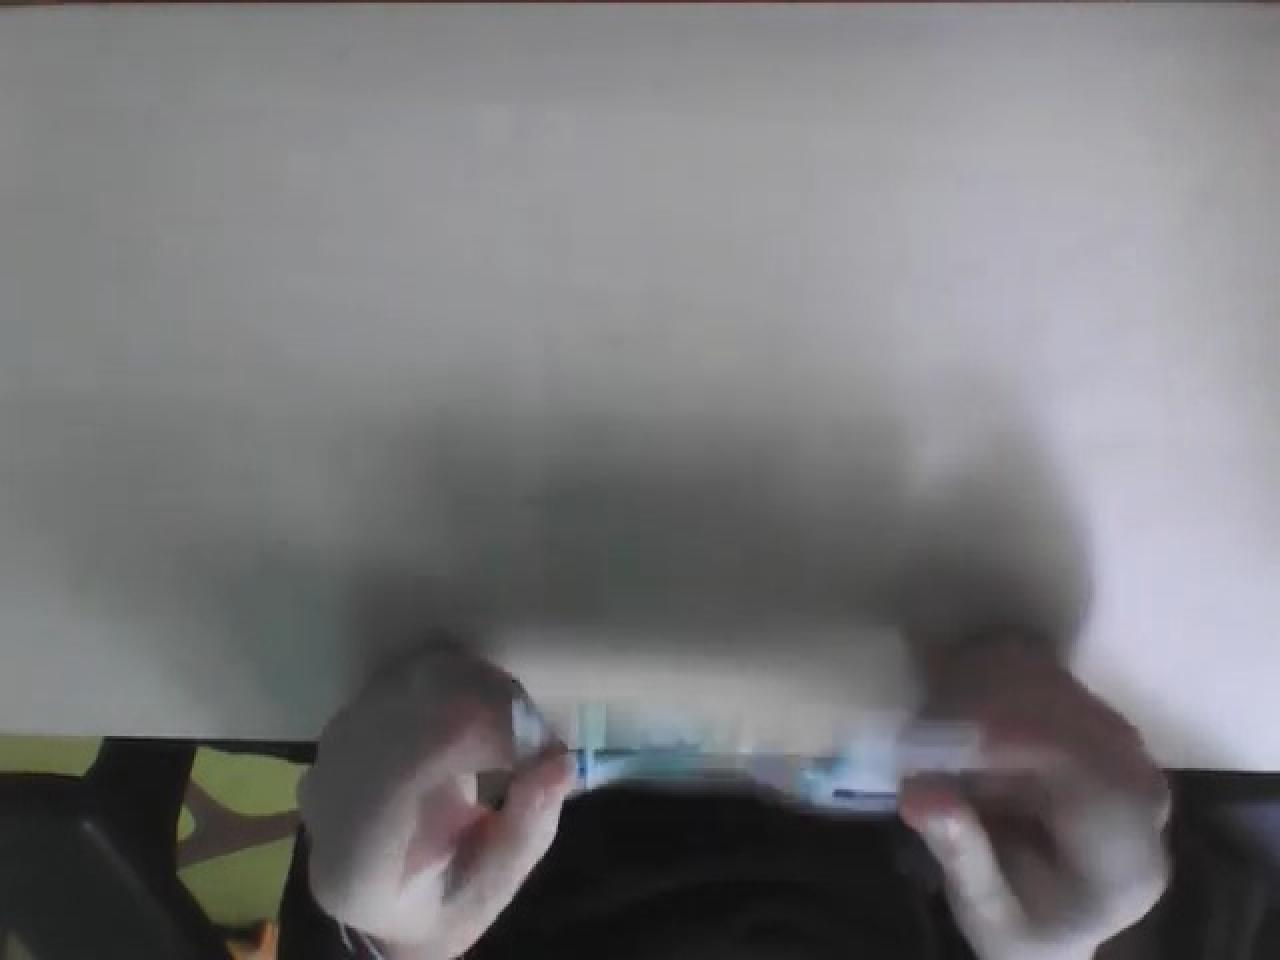100leva: (480, 707, 994, 824)
